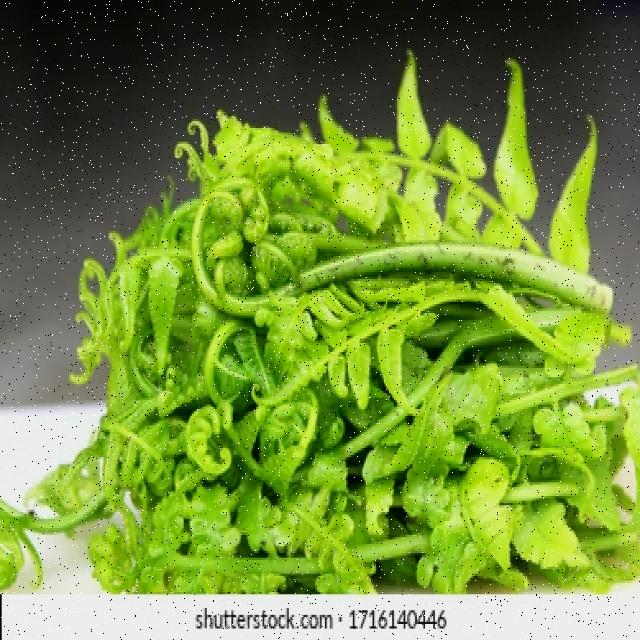Fiddlehead Ferns: (48, 77, 624, 589)
